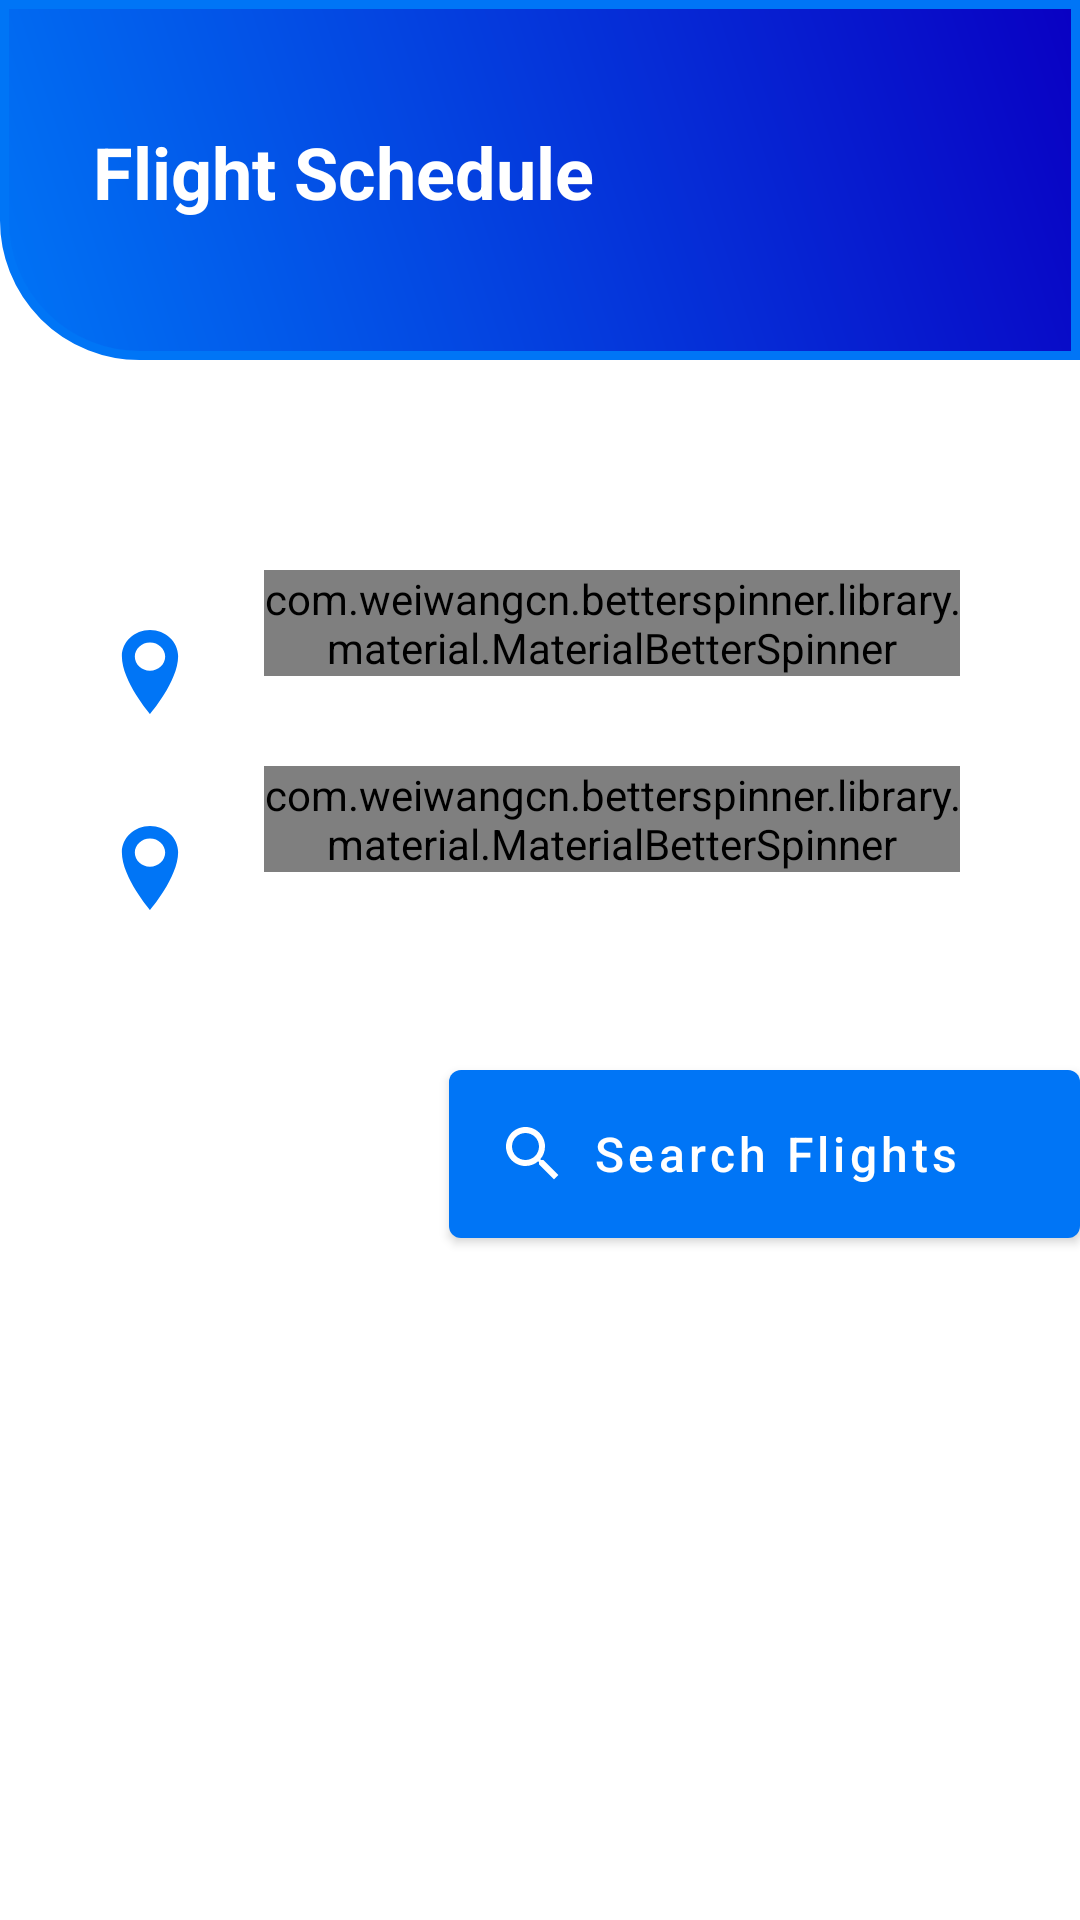

Point at icon controls on the screen. Image size 1080*1920, points as (x,y).
location: (150,672), (150,868)
